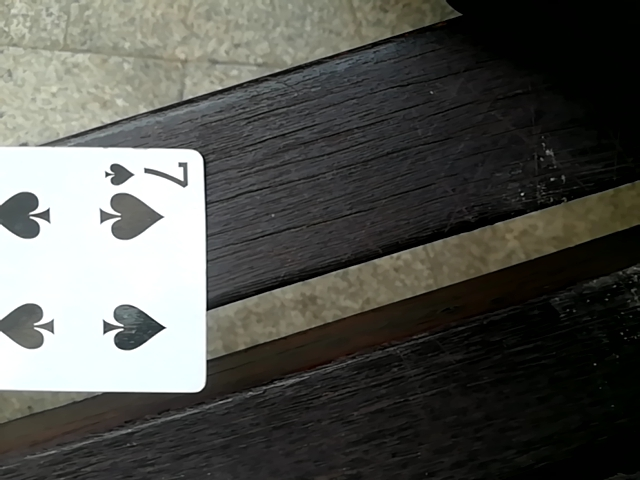ht 7: (0, 142, 208, 396)
